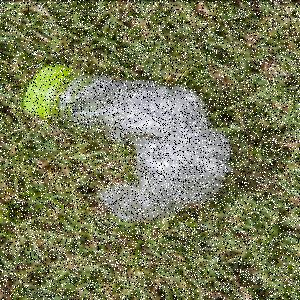Plastic-bottle: (24, 65, 234, 224)
